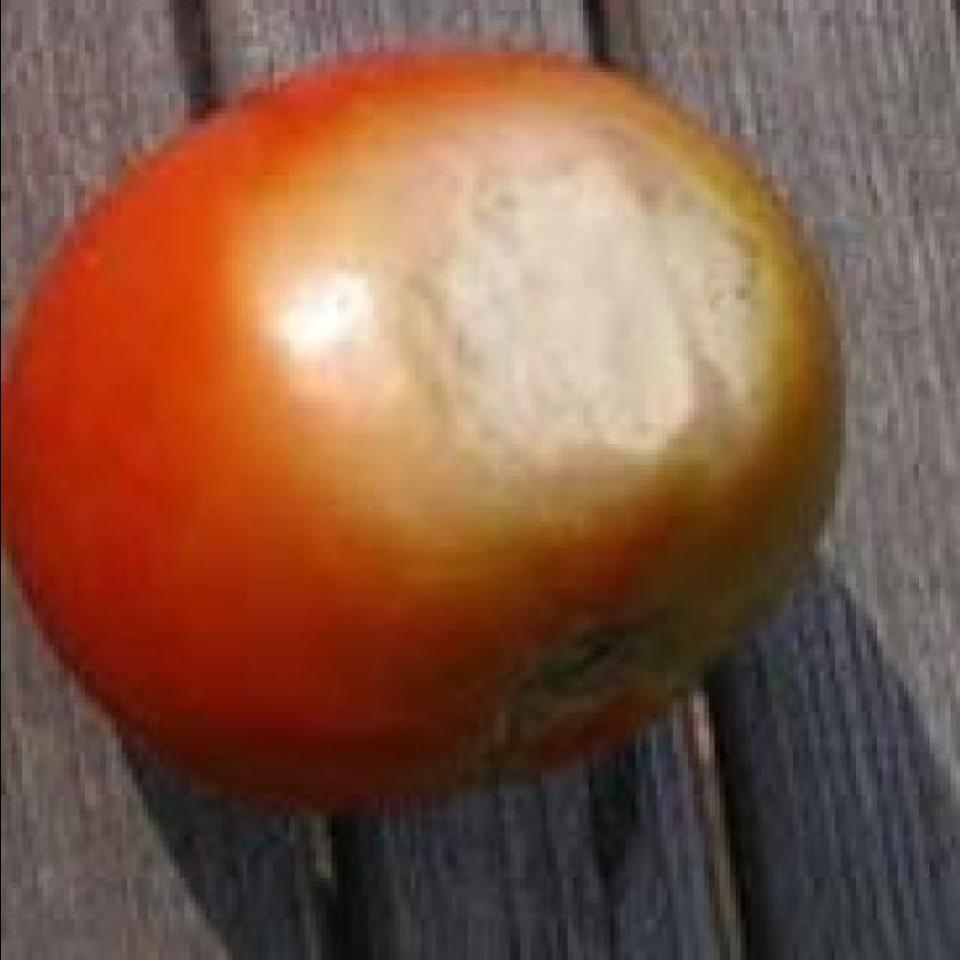Sunscald: (228, 87, 826, 573)
